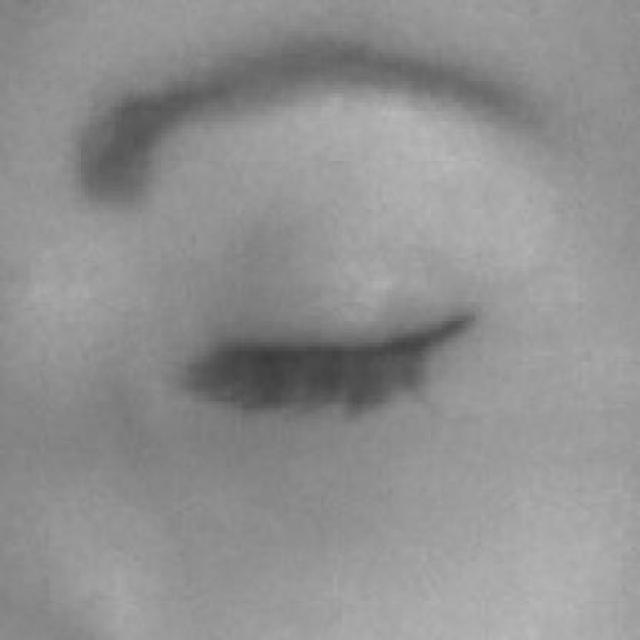drowsy: (199, 234, 473, 503)
